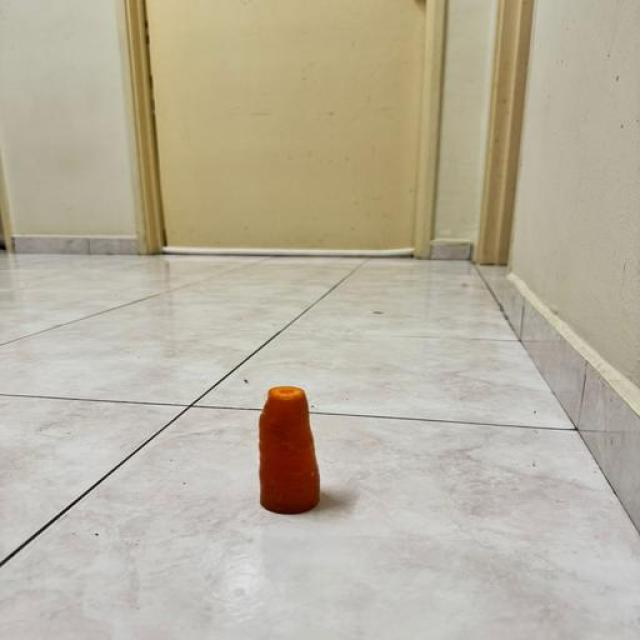organic: (259, 387, 319, 513)
